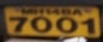character: (30, 15, 52, 34), (55, 15, 77, 34), (9, 16, 27, 33), (81, 16, 96, 35)
